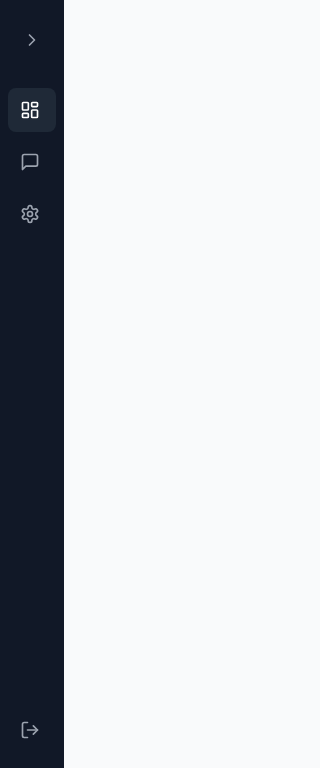
Test: Layout › deve exibir informações do usuário quando sidebar expandida
Click the 1st button at (32, 40), box [8,16,56,64]
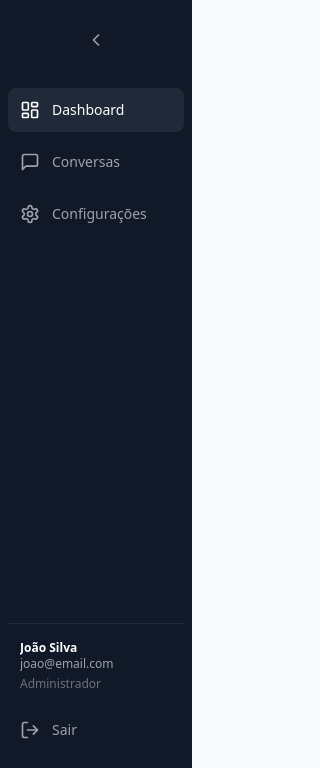
Now the text "João Silva" is shown, box [20,639,77,656]
Now the text "joao@email.com" is shown, box [20,655,114,672]
Now the text "Administrador" is shown, box [20,675,101,692]
